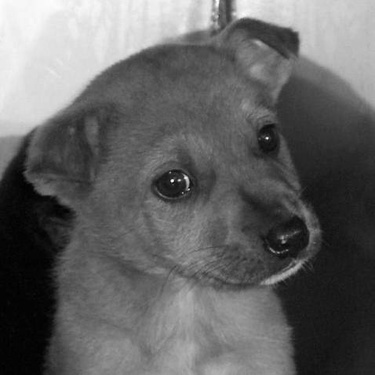dog: (10, 9, 329, 371)
